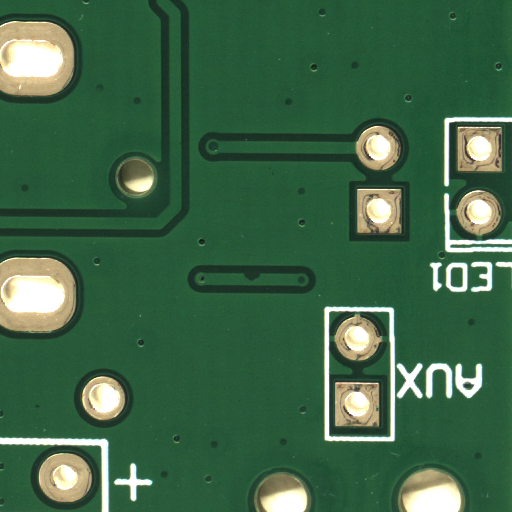Mouse_bite: (253, 276, 268, 287)
